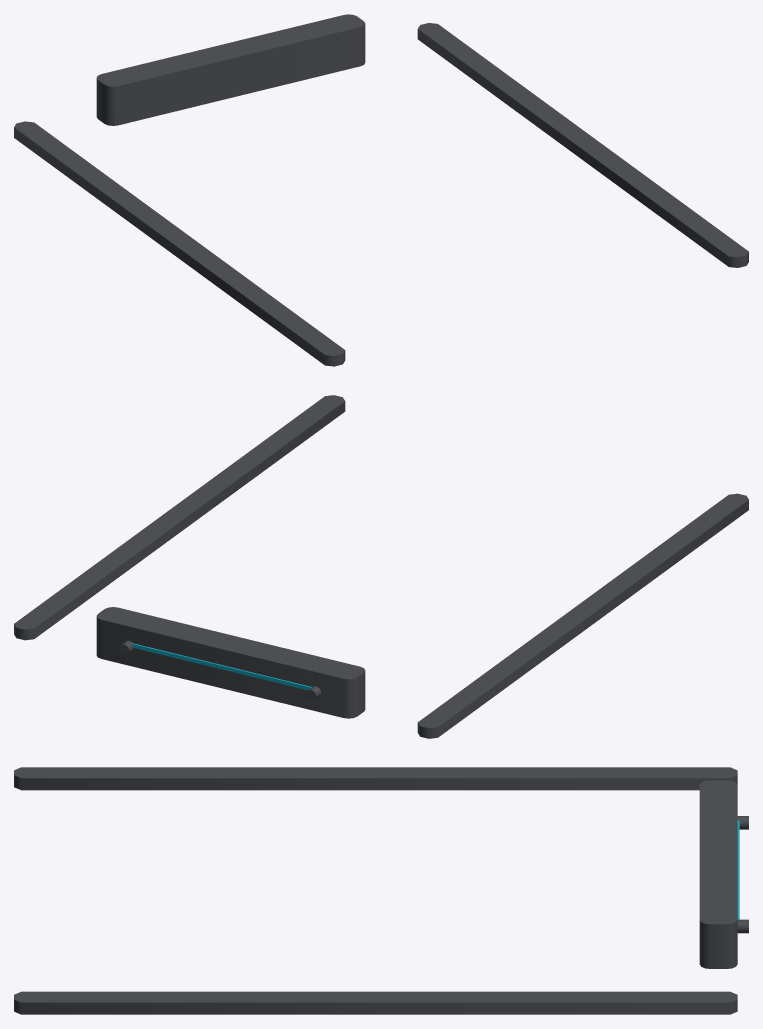
The model's file is mcc3_mount.obj.
3 views of the same model, one above another, from view 1: azimuth 30°, elevation 25°; view 2: azimuth 150°, elevation 25°; view 3: azimuth 270°, elevation 25° (orthographic). The views are drawn at different scales.
Visible parts, largest first — view 1: mcc3_mount; view 2: mcc3_mount; view 3: mcc3_mount.
Part boxes in pixels (box(x1,y1,x2,y2)): mcc3_mount: box(14, 14, 748, 366); mcc3_mount: box(14, 395, 748, 738); mcc3_mount: box(14, 767, 748, 1014).
Bounding box in the file's own units: 1.47 × 0.13 × 1.94.
